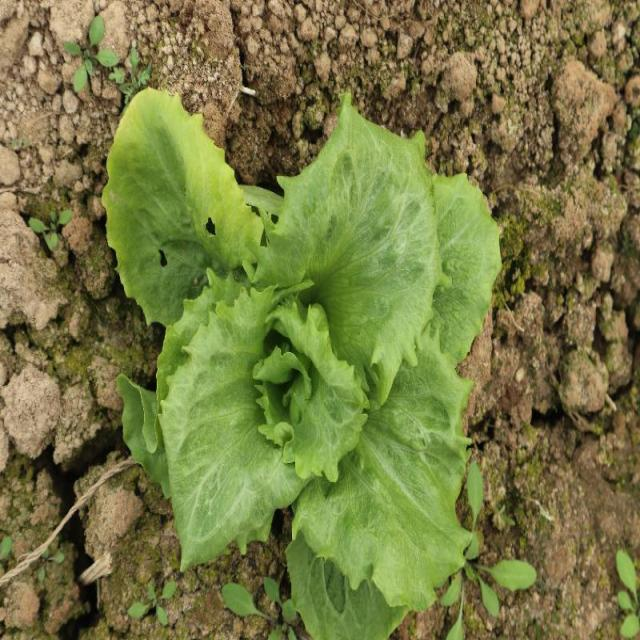crop: (105, 87, 501, 640)
